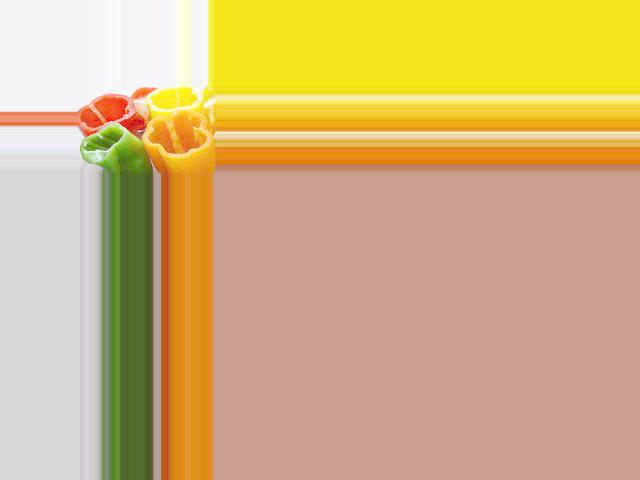bell_pepper: (80, 92, 136, 129)
